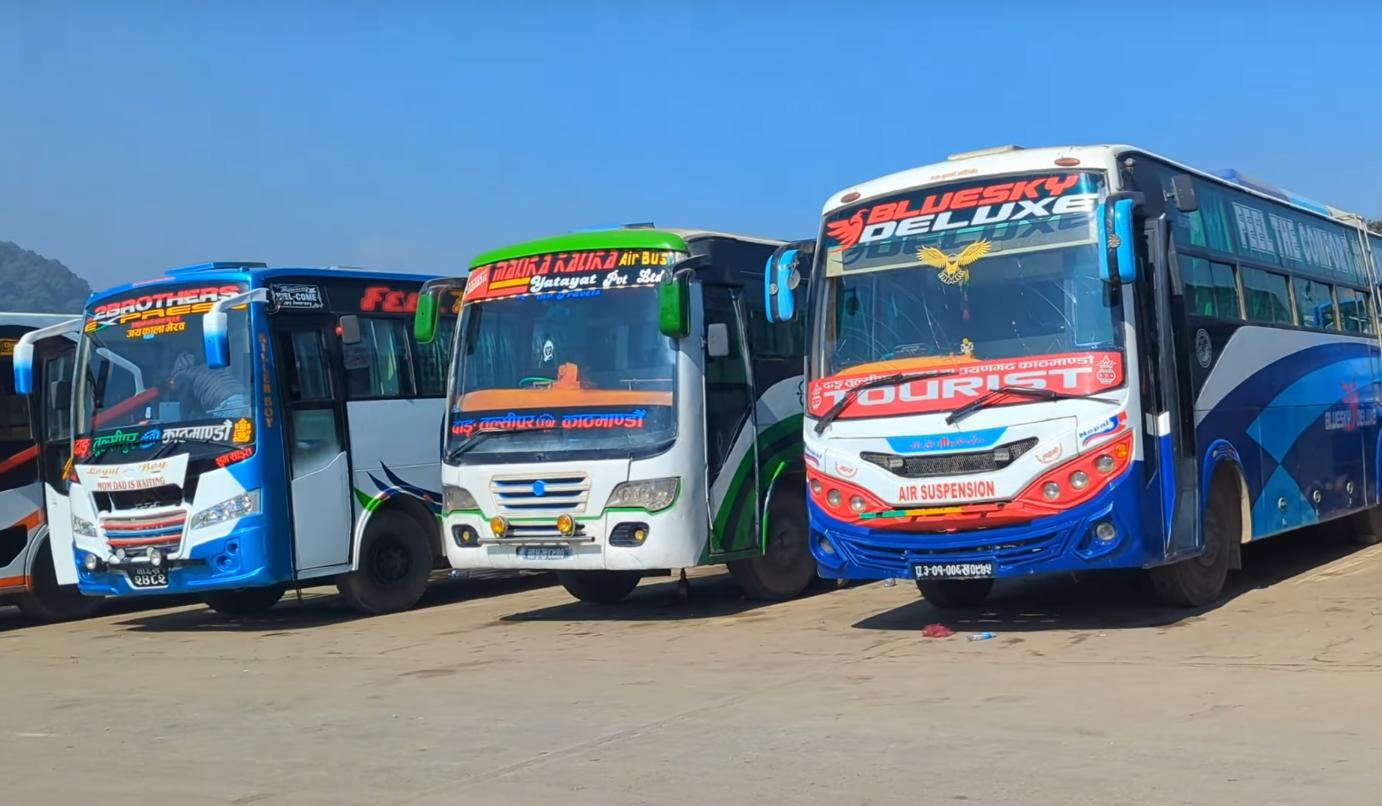bus: (764, 146, 1382, 611), (13, 220, 444, 624), (410, 226, 818, 596)
